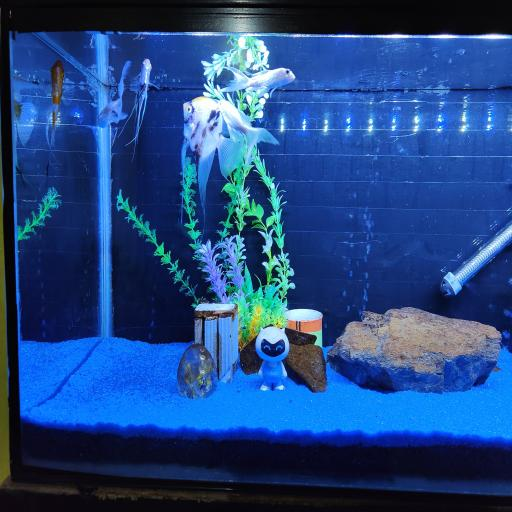Fish: (182, 97, 278, 214), (182, 97, 243, 226), (219, 100, 278, 164), (126, 59, 151, 155), (46, 60, 64, 187), (221, 67, 295, 97), (98, 61, 131, 127), (12, 75, 38, 146), (47, 60, 64, 147), (14, 100, 35, 146)
